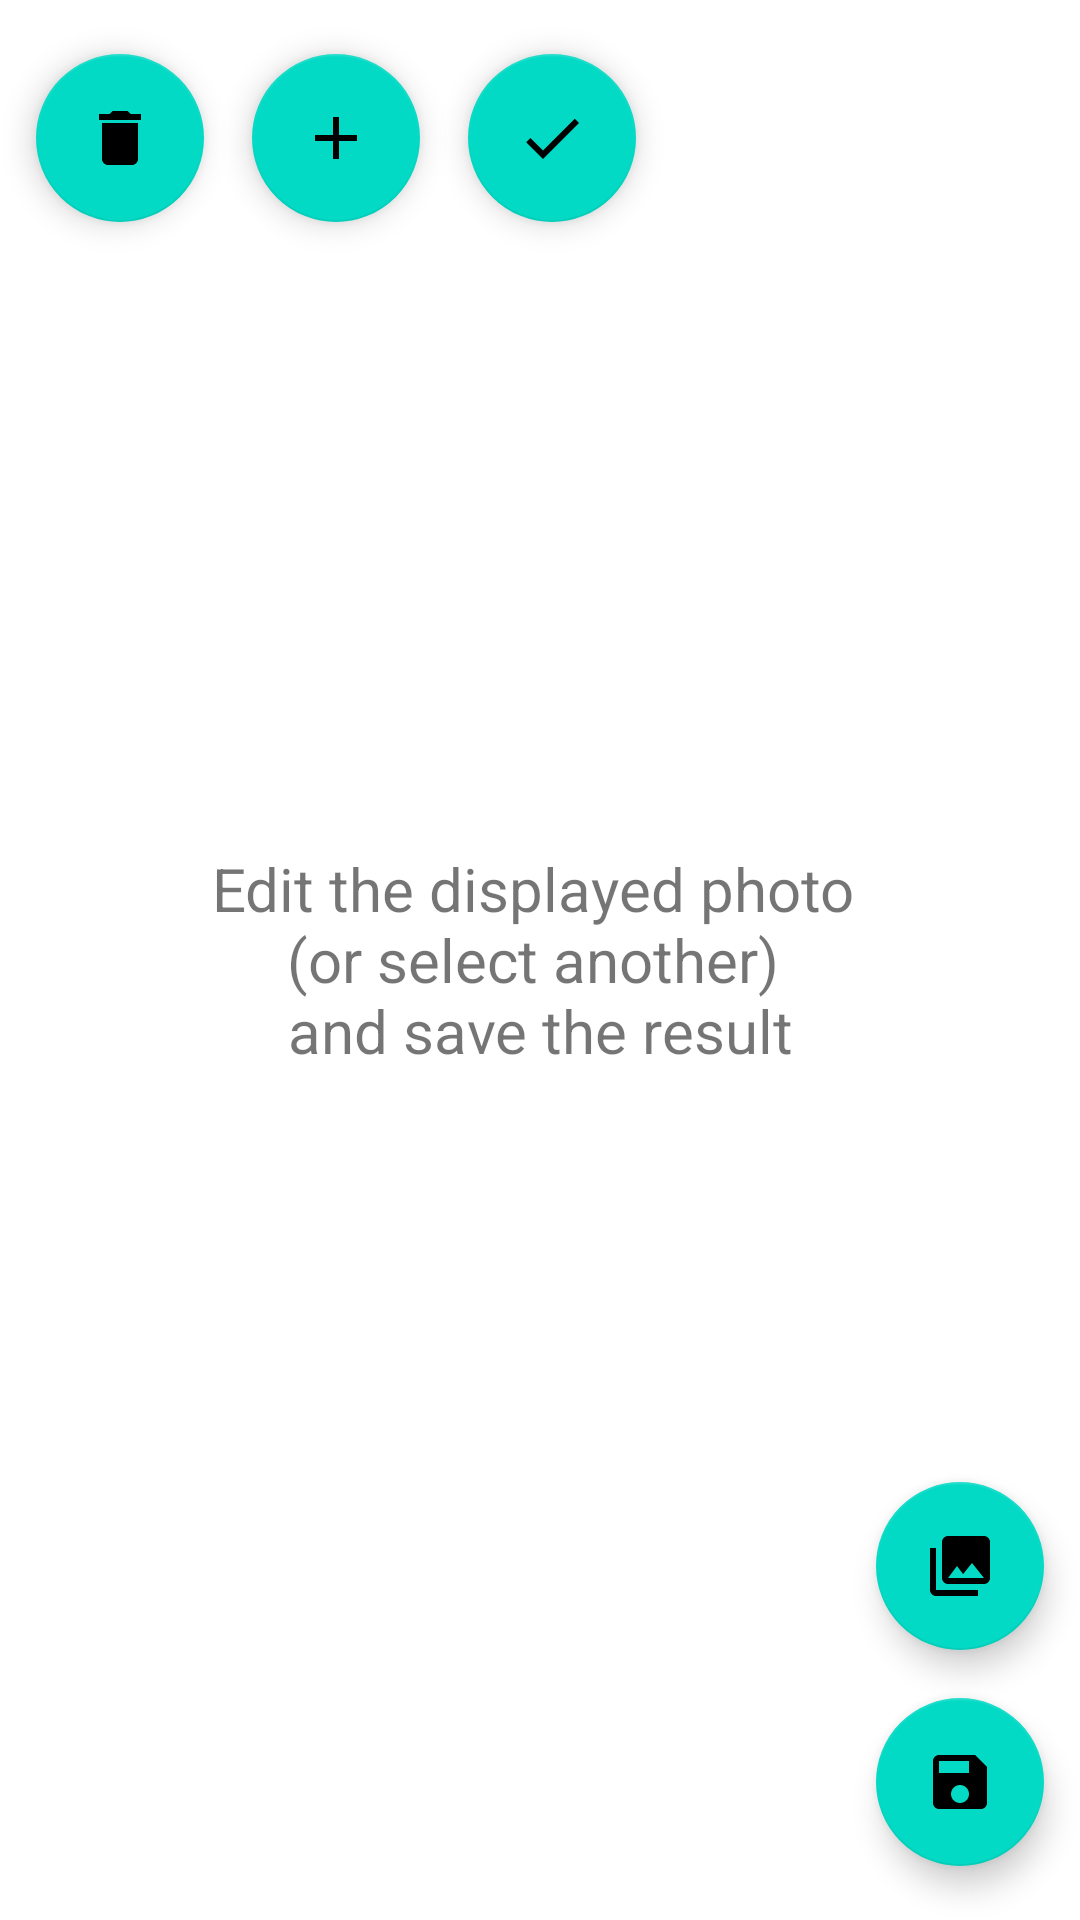

Where icons sit on this 1080*1920 app screen, as (x1, y1, x2, y2):
fab save: (876, 1698, 1047, 1884)
fab sticker add: (250, 54, 420, 223)
fab sticker done: (467, 54, 637, 223)
fab sticker remove: (33, 54, 204, 223)
